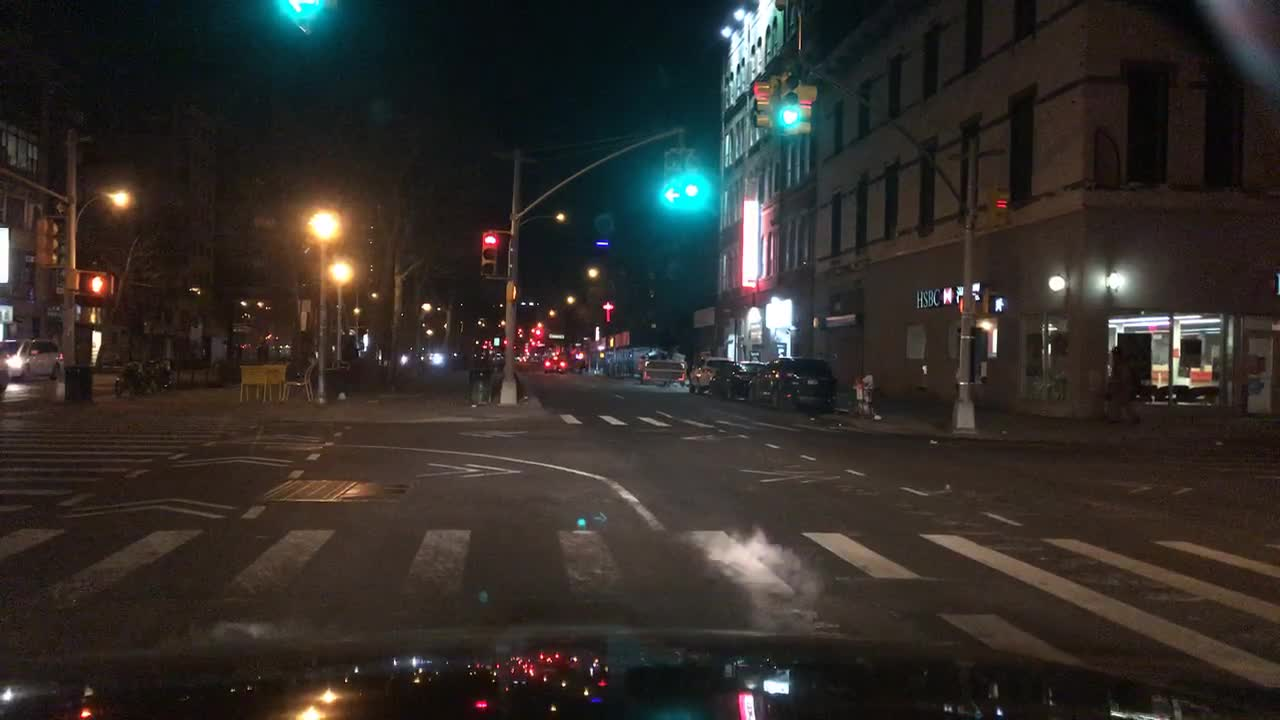bike: (113, 358, 142, 399)
car: (741, 356, 838, 413), (0, 336, 66, 381), (708, 358, 771, 401), (686, 355, 734, 395), (641, 356, 686, 388), (542, 353, 568, 374)
person: (1104, 344, 1145, 425), (257, 339, 270, 365), (636, 354, 646, 379)
traffic light: (776, 73, 801, 137), (751, 74, 779, 129), (660, 147, 683, 212), (682, 148, 706, 205), (480, 232, 501, 280), (798, 82, 817, 134), (989, 187, 1010, 225), (86, 272, 114, 299), (985, 291, 1009, 316), (955, 294, 978, 316), (509, 281, 519, 301)
traffic sign: (593, 209, 616, 237)
